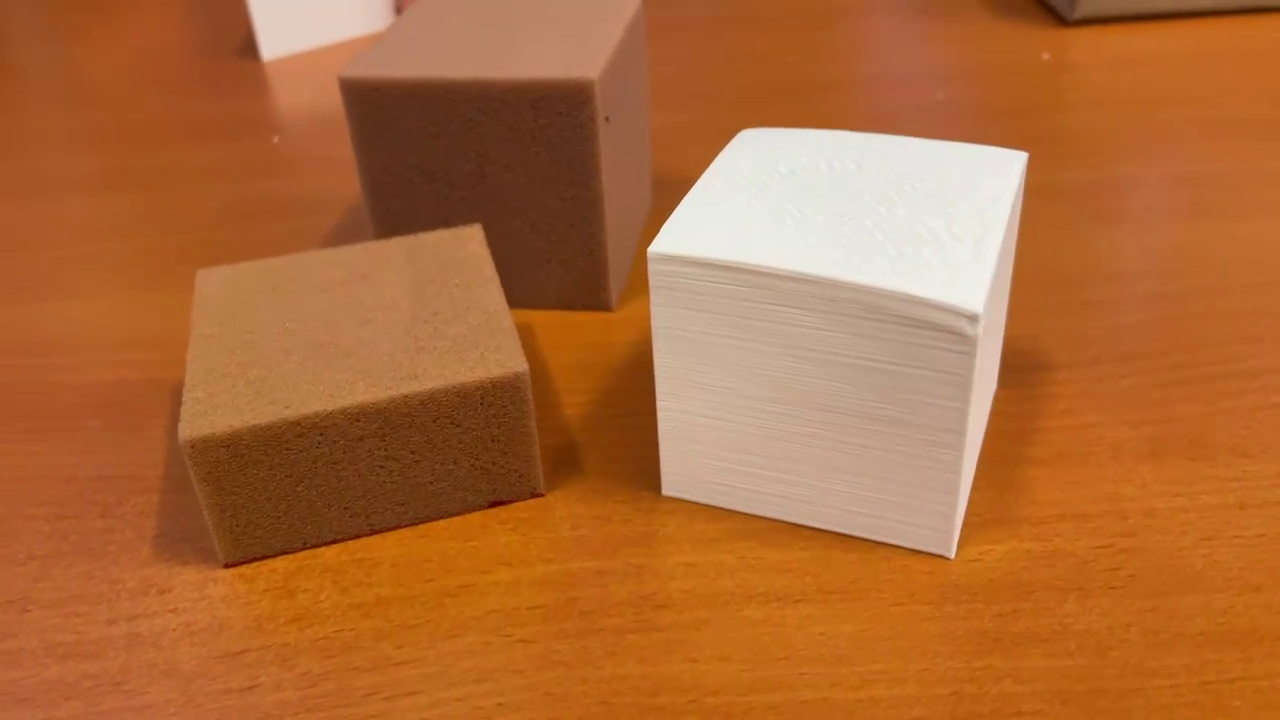Cube: (639, 122, 1030, 559), (331, 1, 658, 317)
Cube_short: (175, 219, 553, 574)
